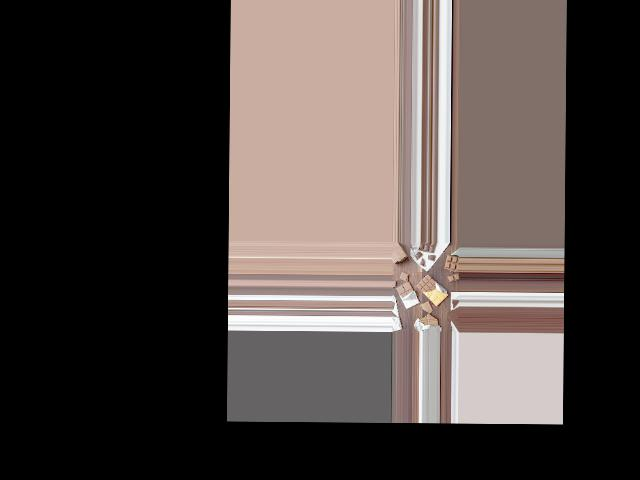chocolate: (393, 281, 420, 307)
